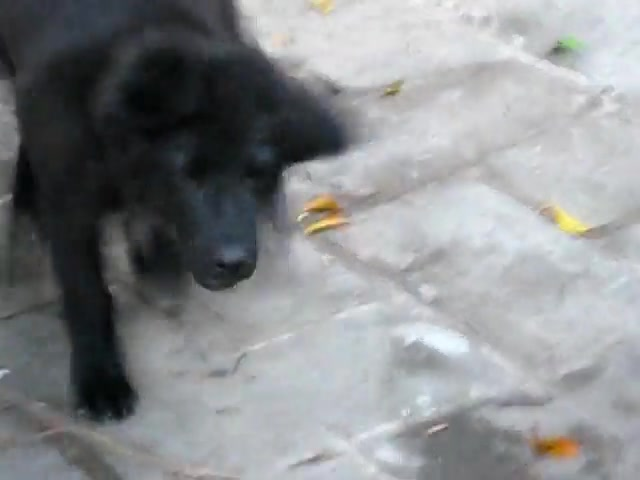dog: (1, 1, 351, 423)
